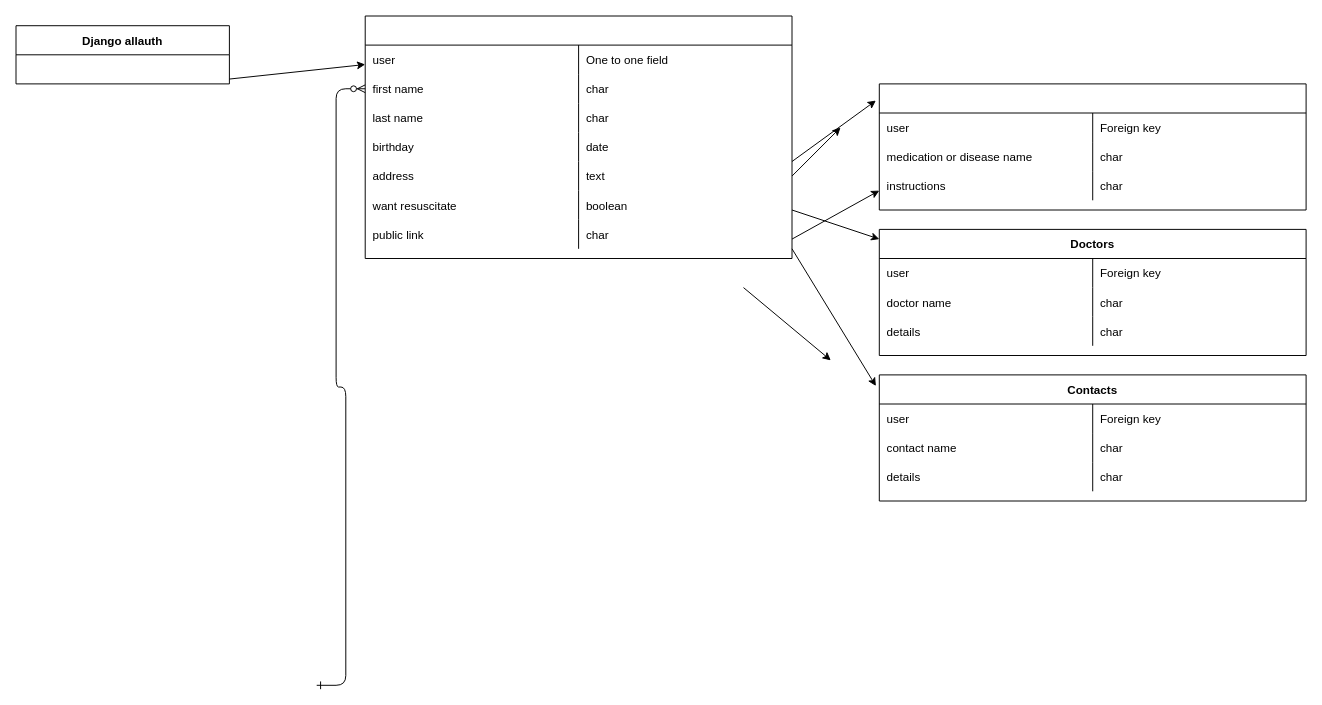
Image size: 1322x705. Some labels were removed from this diagram. The box of each missing label's shape, as (x1, y1, x2, y2) in pixels:
Diseases and medications: (878, 83, 1306, 210)
Personal data: (364, 15, 792, 259)
